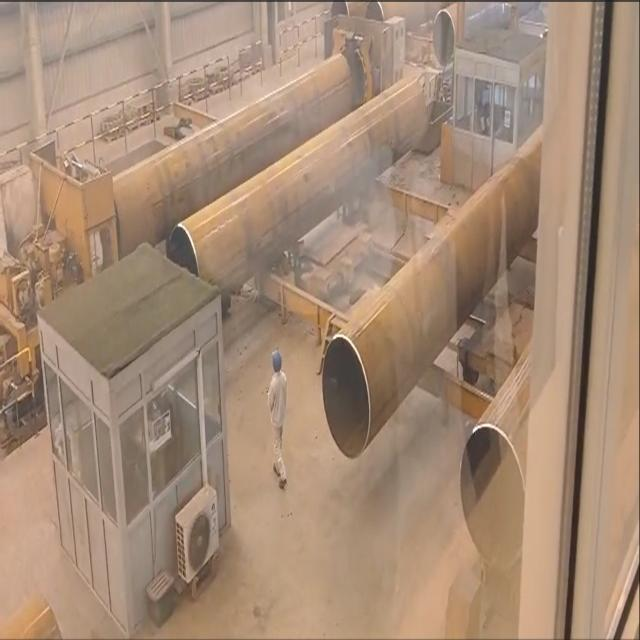warningzone: (259, 176, 457, 322), (430, 252, 536, 405)
